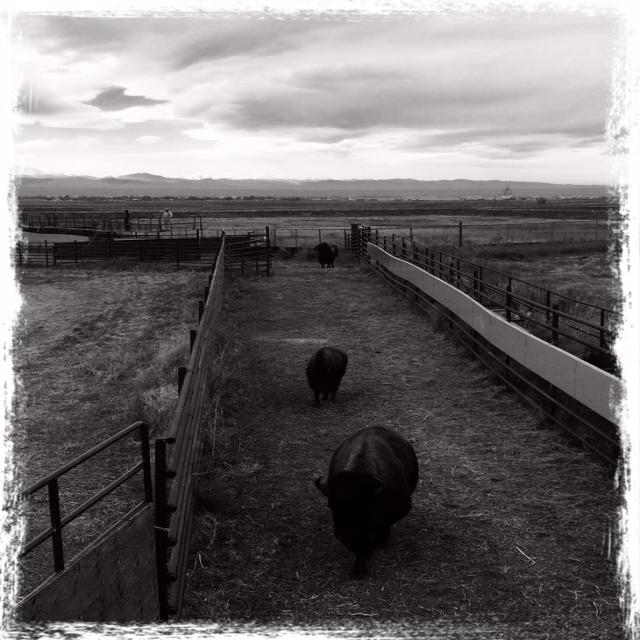Pig: (314, 425, 419, 559), (305, 345, 348, 402), (310, 242, 342, 270)
